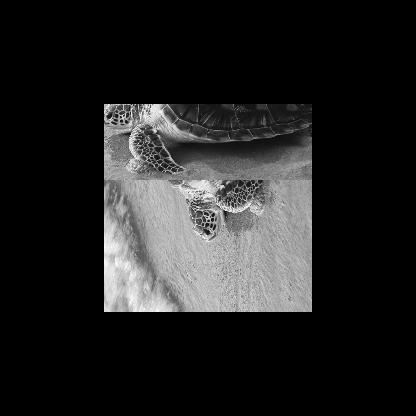turtle: (129, 104, 304, 212)
